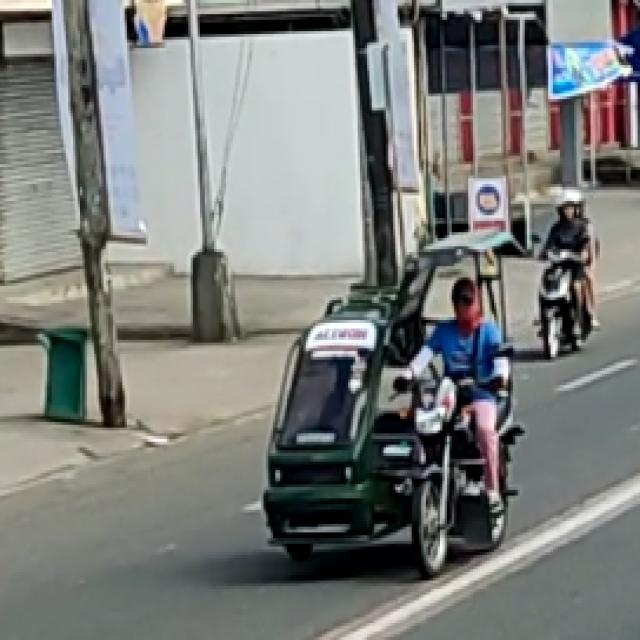Motorcycle: (534, 190, 606, 362)
